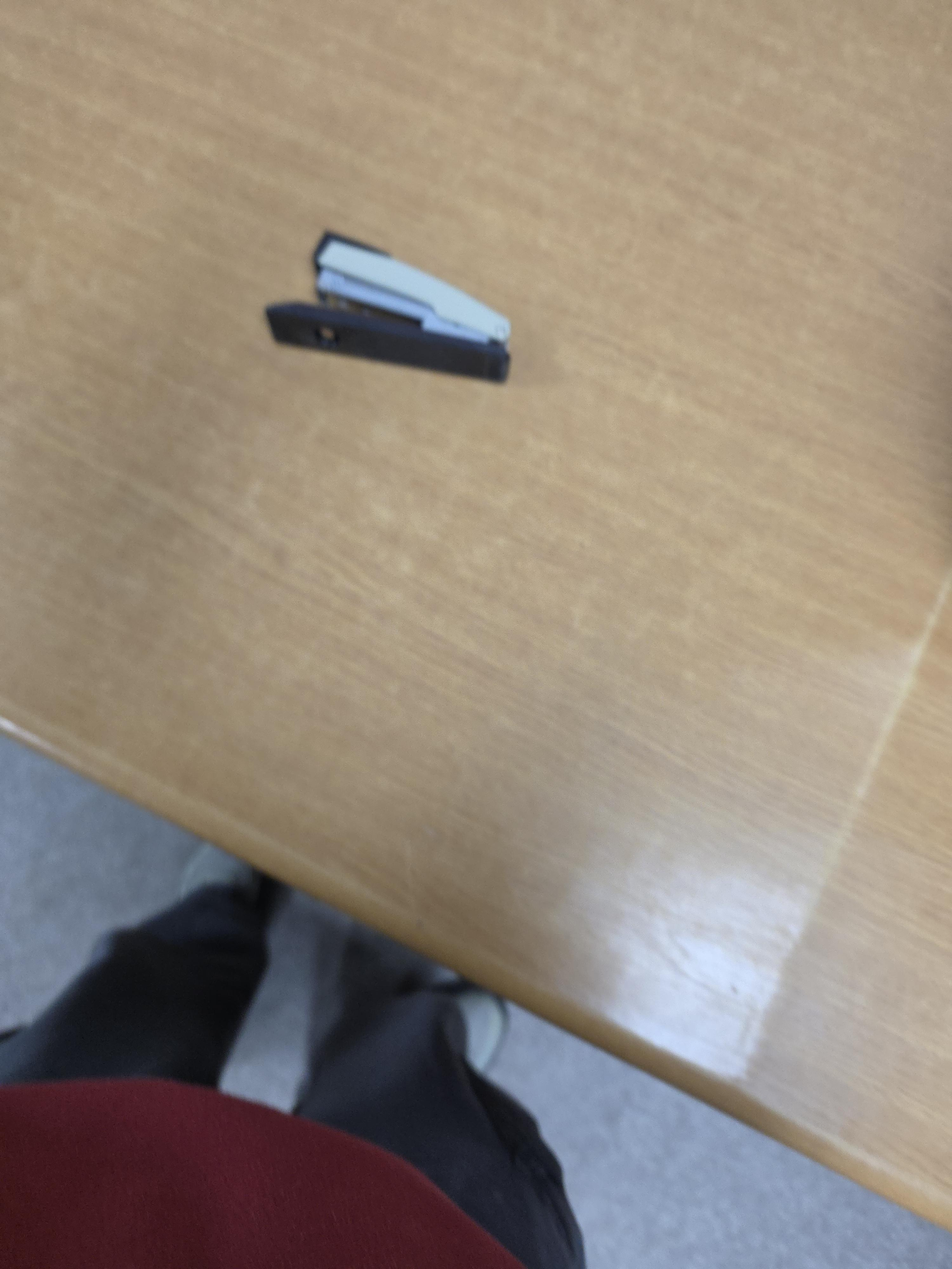stapler: (265, 229, 513, 384)
